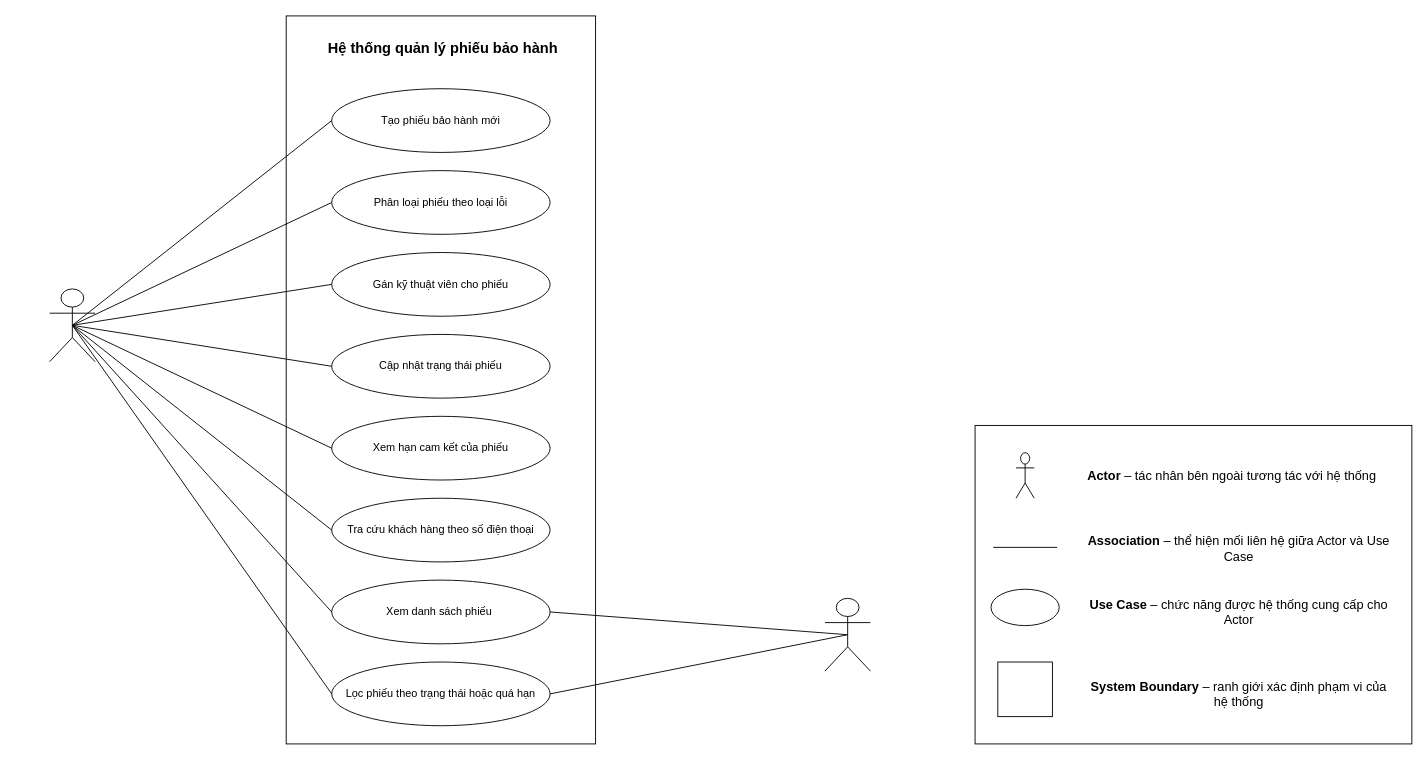
Some shapes in this 1428 by 760 pixel diagram are drawn without their labels. Here are the shapes that lost their labels. From the top down, the box of each, then its label:
(49, 288, 95, 362): Nhân viên tiếp nhận
(1015, 452, 1034, 498): Actor
(824, 597, 870, 671): Quản lý trung tâm
